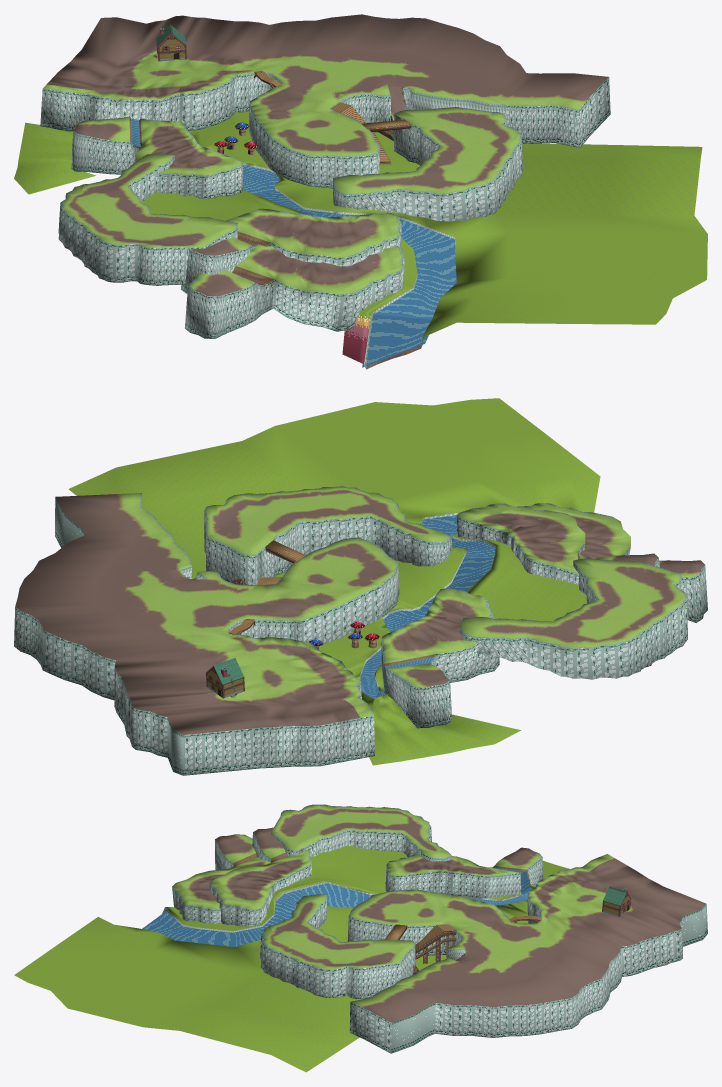
Rendered from phamas_forest.glb.
The picture shows the model from 3 angles, top to bottom: view 1: azimuth 30°, elevation 25°; view 2: azimuth 150°, elevation 25°; view 3: azimuth 270°, elevation 25°; orthographic projection. The views are drawn at different scales.
Visible parts, largest first — view 1: Elevations, Ground, Water, HouseTemp; view 2: Elevations, Ground, Water, HouseTemp; view 3: Elevations, Ground, Water, ScaffoldUp, HouseTemp.
Boxes of the visible parts, box(x1,y1,x2,y2) form: Elevations: box(40, 14, 610, 338); Ground: box(14, 111, 707, 369); Water: box(130, 118, 456, 367); HouseTemp: box(153, 24, 186, 61); Elevations: box(14, 486, 707, 775); Ground: box(68, 398, 600, 765); Water: box(360, 515, 495, 698); HouseTemp: box(206, 658, 244, 698); Elevations: box(172, 804, 707, 1053); Ground: box(14, 845, 569, 1072); Water: box(142, 867, 531, 946); ScaffoldUp: box(415, 924, 456, 963); HouseTemp: box(602, 886, 631, 916).
Size of the model in its own units: 167 by 29.73 by 209.
13 materials, 13 textured.
